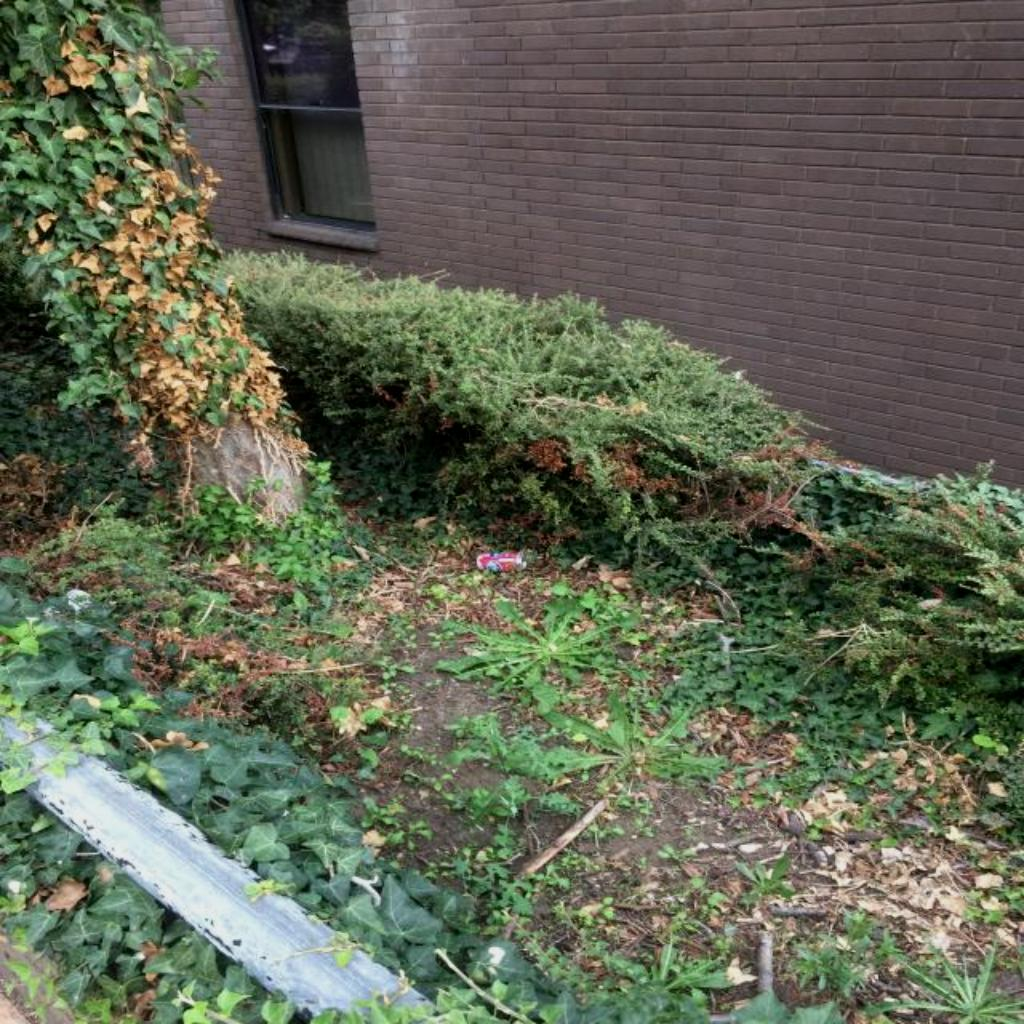garbage: (478, 550, 531, 575)
